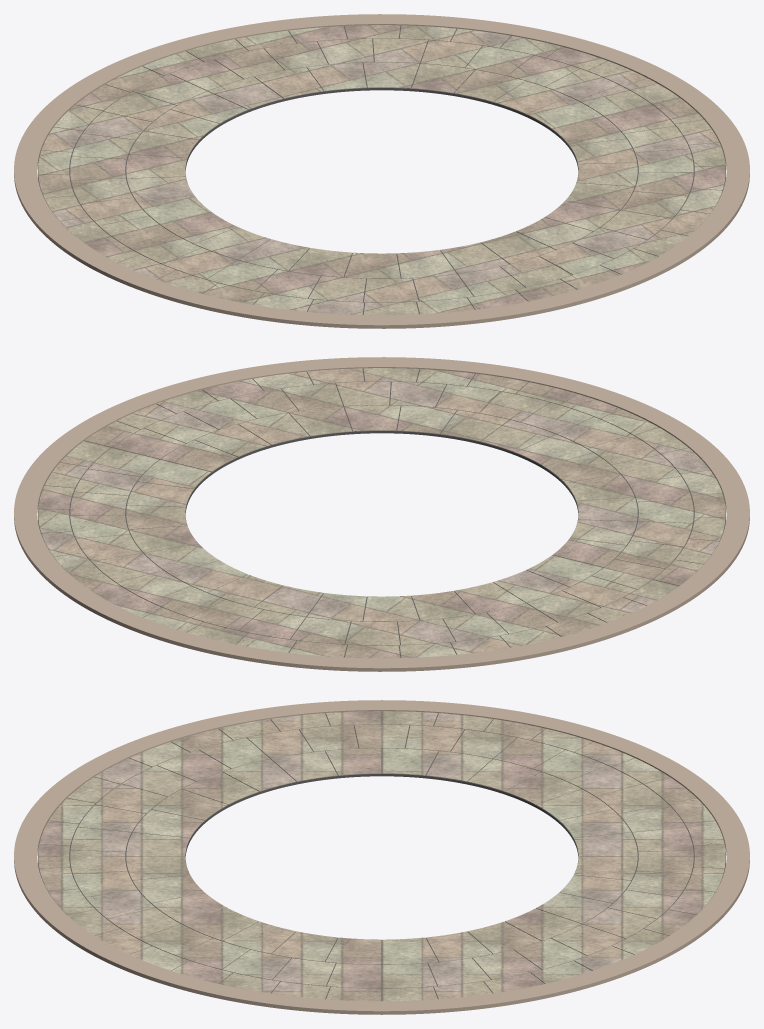
The model's file is plaza.glb.
The picture shows the model from 3 angles, top to bottom: view 1: azimuth 30°, elevation 25°; view 2: azimuth 150°, elevation 25°; view 3: azimuth 270°, elevation 25°; orthographic projection.
Parts seen in each view (by area): view 1: plaza_paving, plaza_edge, plaza_dark; view 2: plaza_paving, plaza_edge, plaza_dark; view 3: plaza_paving, plaza_edge, plaza_dark.
Boxes of the visible parts, bbox=[...] form: plaza_paving: bbox=[38, 25, 725, 315]; plaza_edge: bbox=[14, 14, 749, 328]; plaza_dark: bbox=[38, 25, 725, 314]; plaza_paving: bbox=[38, 368, 725, 658]; plaza_edge: bbox=[14, 357, 749, 671]; plaza_dark: bbox=[38, 368, 725, 657]; plaza_paving: bbox=[38, 711, 725, 1001]; plaza_edge: bbox=[14, 700, 749, 1014]; plaza_dark: bbox=[38, 712, 725, 1000].
Size of the model in its own units: 9.19 by 0.05 by 9.19.
Materials: 3 (1 with a texture image).
